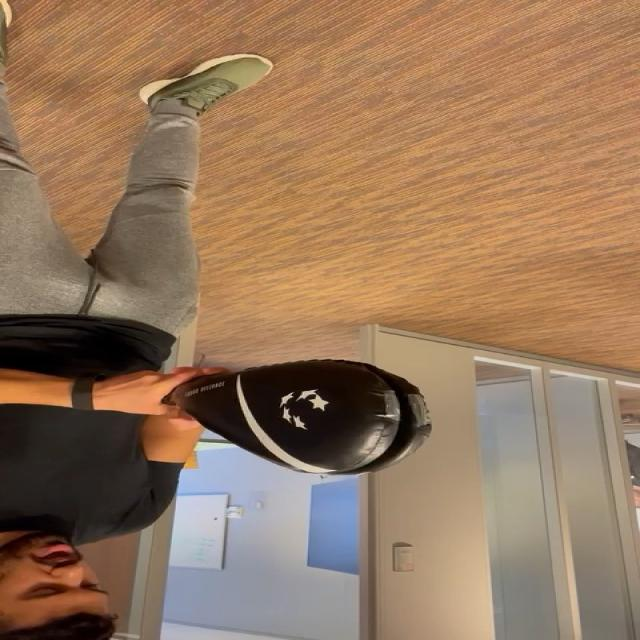paddle: (198, 365, 429, 474)
